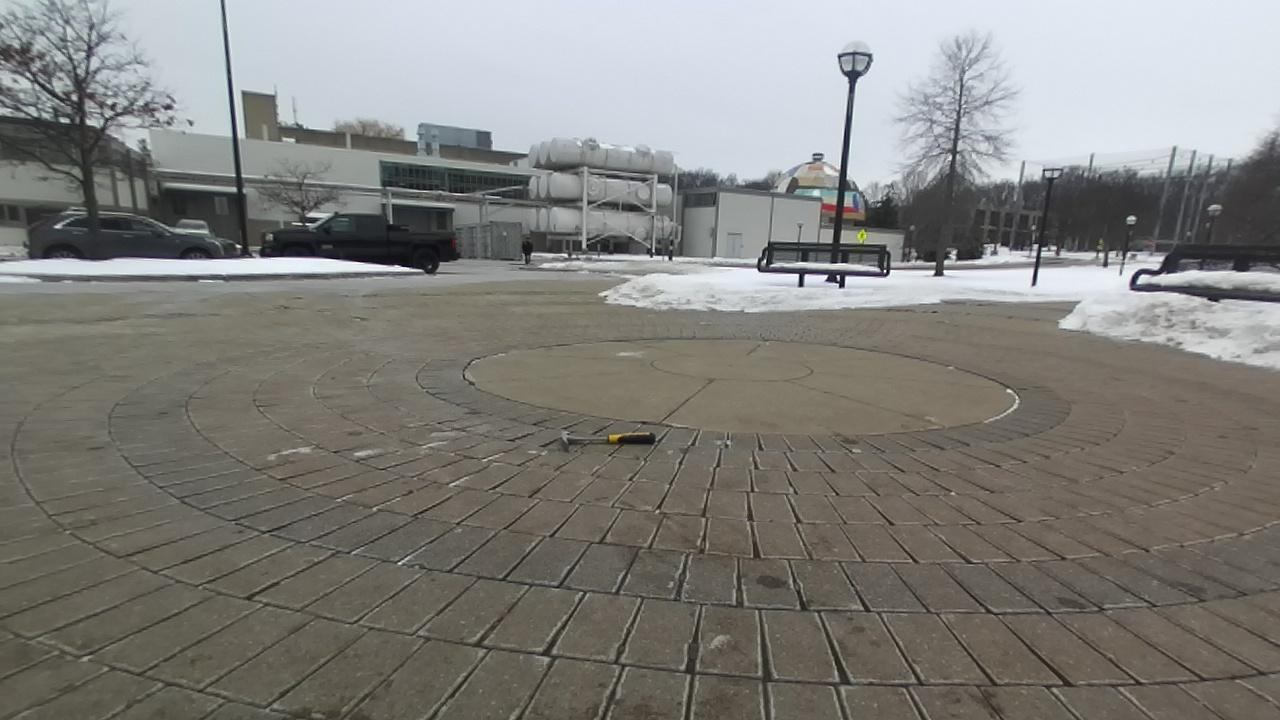pick: (558, 431, 656, 450)
